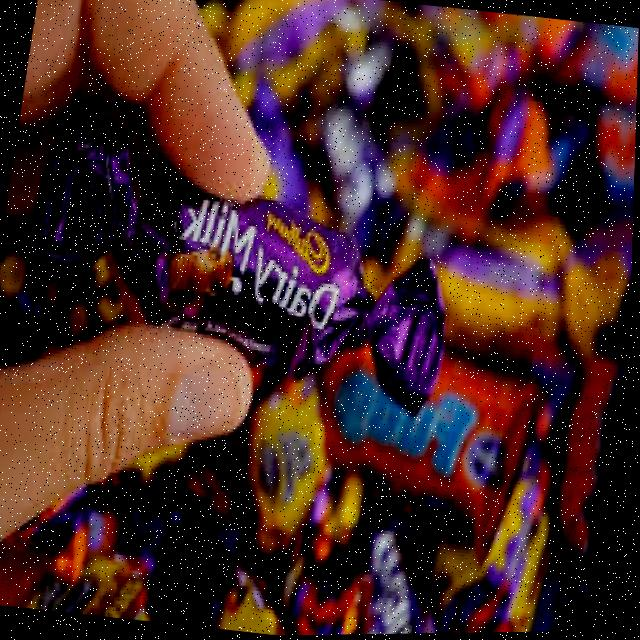cadbury: (9, 107, 467, 433)
